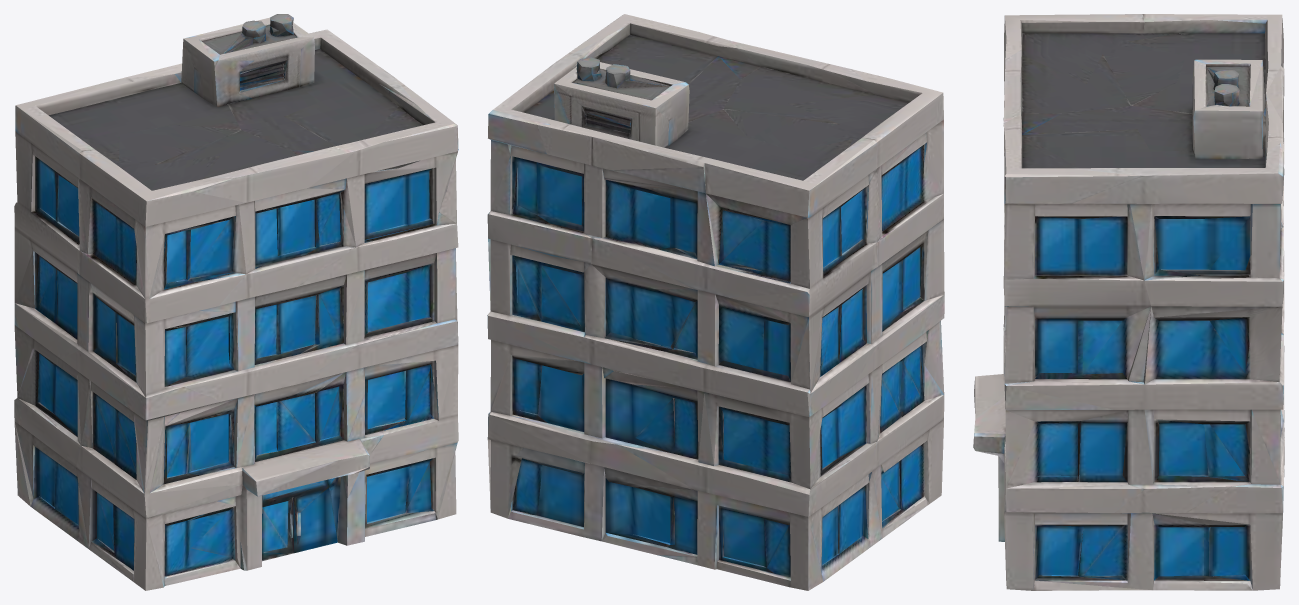
Rendered from building-office.glb.
The picture shows the model from 3 angles, left to right: view 1: azimuth 30°, elevation 25°; view 2: azimuth 150°, elevation 25°; view 3: azimuth 270°, elevation 25°; orthographic projection. The views are drawn at different scales.
Bounding box in the file's own units: 1.42 × 1.9 × 1.15.
Materials: 1 (1 with a texture image).
